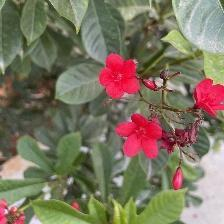jatropha: (99, 51, 143, 102), (117, 113, 164, 160)
